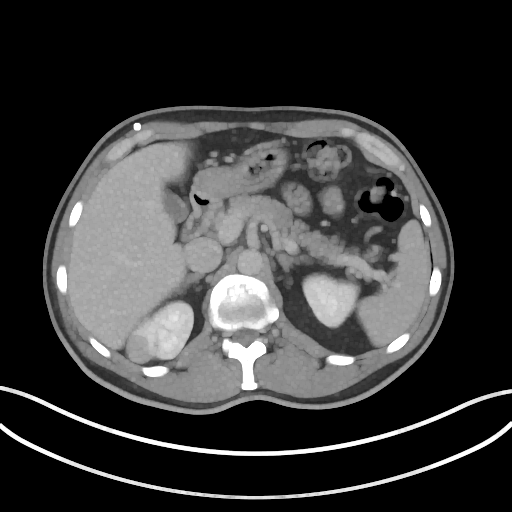Lesion: (125, 325, 162, 367)
